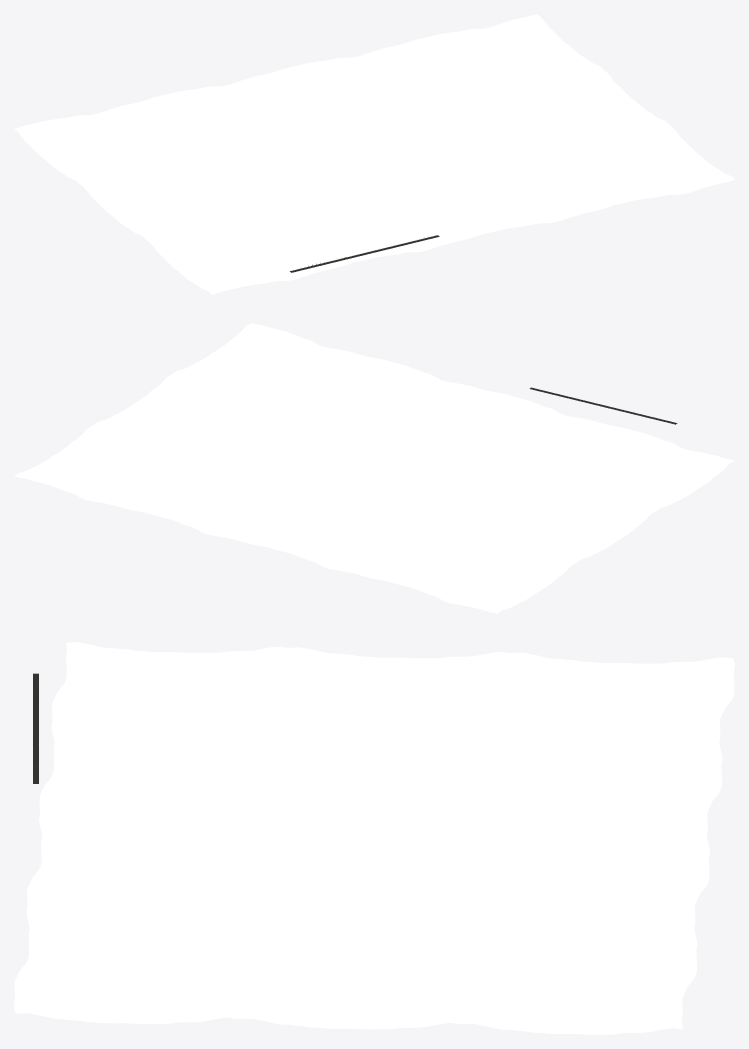
The model's file is wet-road.glb.
The picture shows the model from 3 angles, top to bottom: view 1: azimuth 30°, elevation 25°; view 2: azimuth 150°, elevation 25°; view 3: azimuth 270°, elevation 25°; orthographic projection. The views are drawn at different scales.
Visible parts, largest first — view 1: Ocean Far.001; view 2: Ocean Far.001; view 3: Ocean Far.001, Cube.
Part boxes in pixels (bbox=[...]): Ocean Far.001: bbox=[14, 14, 734, 294]; Ocean Far.001: bbox=[14, 323, 734, 613]; Ocean Far.001: bbox=[14, 642, 734, 1034]; Cube: bbox=[33, 673, 38, 783].
Size of the model in its own units: 1494 by 53.9 by 1161.
Materials: 9 (5 with a texture image).
